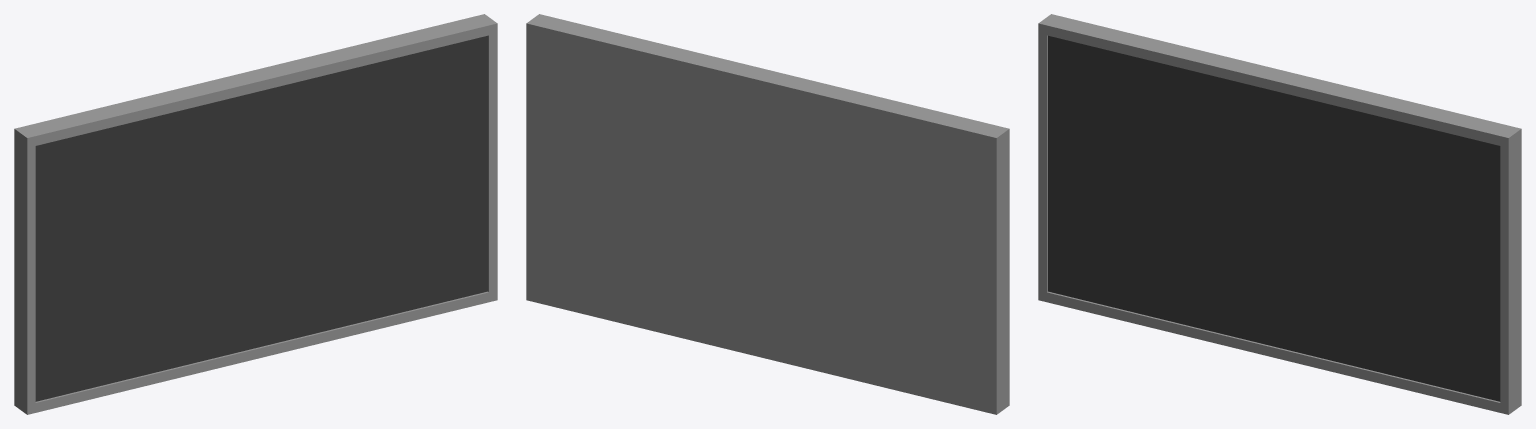
3 views of the same model, side by side, from view 1: azimuth 30°, elevation 25°; view 2: azimuth 150°, elevation 25°; view 3: azimuth 330°, elevation 25° (orthographic).
Visible parts, largest first — view 1: TV; view 2: TV; view 3: TV.
Boxes of the visible parts, box(x1,y1,x2,y2) form: TV: box(14, 14, 497, 414); TV: box(526, 14, 1009, 414); TV: box(1038, 14, 1521, 414).
Size of the model in its own units: 407 by 229 by 19.3.
